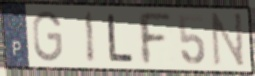5: (177, 13, 206, 67)
F: (135, 10, 174, 68)
G: (31, 10, 64, 64)
I: (84, 9, 97, 66)
L: (106, 12, 135, 64)
N: (210, 11, 246, 70)
